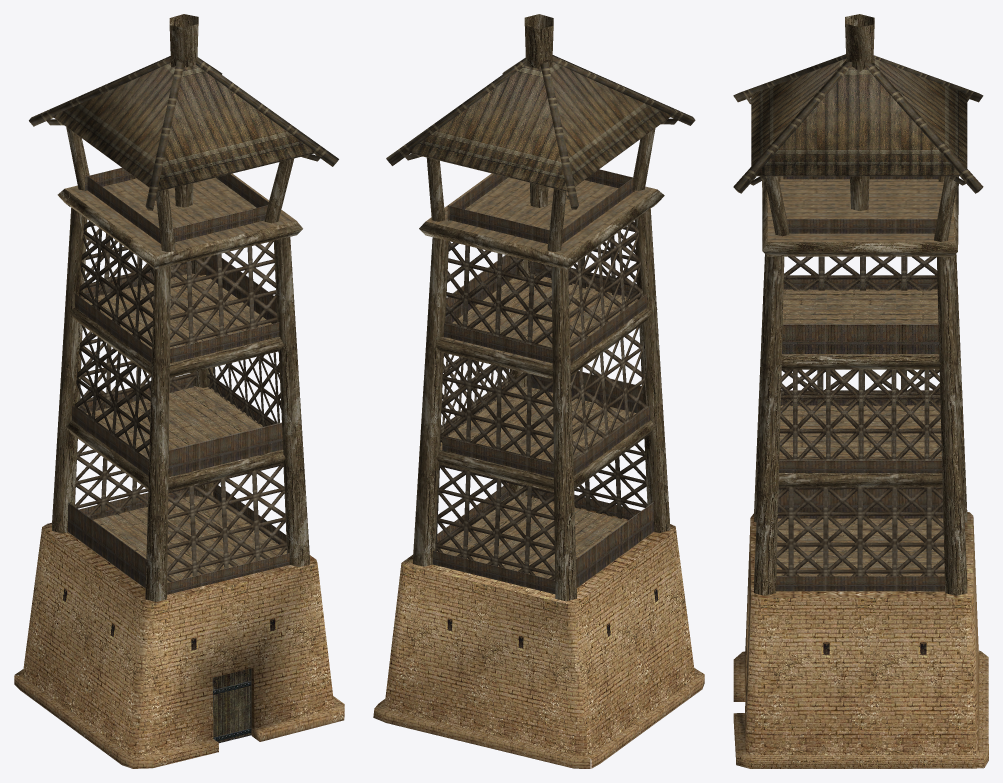
Rendered from w_cd_castle00_tower_00.glb.
The picture shows the model from 3 angles, left to right: view 1: azimuth 30°, elevation 25°; view 2: azimuth 150°, elevation 25°; view 3: azimuth 270°, elevation 25°; orthographic projection. The views are drawn at different scales.
Visible parts, largest first — view 1: w_cd_castle00_tower_00, w_cd_castle05_tower_05, w_cd_castle02_tower_02, w_cd_castle03_tower_03, w_cd_castle04_tower_04, w_cd_castle07_tewer_07, w_cd_castle06_tower_06; view 2: w_cd_castle00_tower_00, w_cd_castle05_tower_05, w_cd_castle02_tower_02, w_cd_castle03_tower_03, w_cd_castle07_tewer_07, w_cd_castle04_tower_04, w_cd_castle06_tower_06; view 3: w_cd_castle00_tower_00, w_cd_castle05_tower_05, w_cd_castle03_tower_03, w_cd_castle02_tower_02, w_cd_castle07_tewer_07, w_cd_castle04_tower_04, w_cd_castle06_tower_06.
Part boxes in pixels (box(x1,y1,x2,y2)): w_cd_castle00_tower_00: box(14, 496, 344, 768); w_cd_castle05_tower_05: box(52, 14, 309, 601); w_cd_castle02_tower_02: box(74, 221, 287, 581); w_cd_castle03_tower_03: box(65, 173, 296, 588); w_cd_castle04_tower_04: box(68, 167, 289, 594); w_cd_castle07_tewer_07: box(52, 62, 314, 191); w_cd_castle06_tower_06: box(29, 56, 338, 210); w_cd_castle00_tower_00: box(373, 496, 704, 768); w_cd_castle05_tower_05: box(413, 14, 670, 601); w_cd_castle02_tower_02: box(435, 221, 647, 579); w_cd_castle03_tower_03: box(426, 173, 657, 587); w_cd_castle07_tewer_07: box(408, 61, 671, 191); w_cd_castle04_tower_04: box(432, 169, 654, 594); w_cd_castle06_tower_06: box(386, 55, 695, 209); w_cd_castle00_tower_00: box(733, 512, 988, 768); w_cd_castle05_tower_05: box(754, 14, 967, 595); w_cd_castle03_tower_03: box(767, 176, 953, 576); w_cd_castle02_tower_02: box(776, 256, 944, 576); w_cd_castle07_tewer_07: box(751, 58, 967, 176); w_cd_castle04_tower_04: box(776, 176, 945, 591); w_cd_castle06_tower_06: box(733, 54, 983, 193).
Size of the model in its own units: 17.89 by 52.82 by 17.6.
7 materials, 7 textured.
